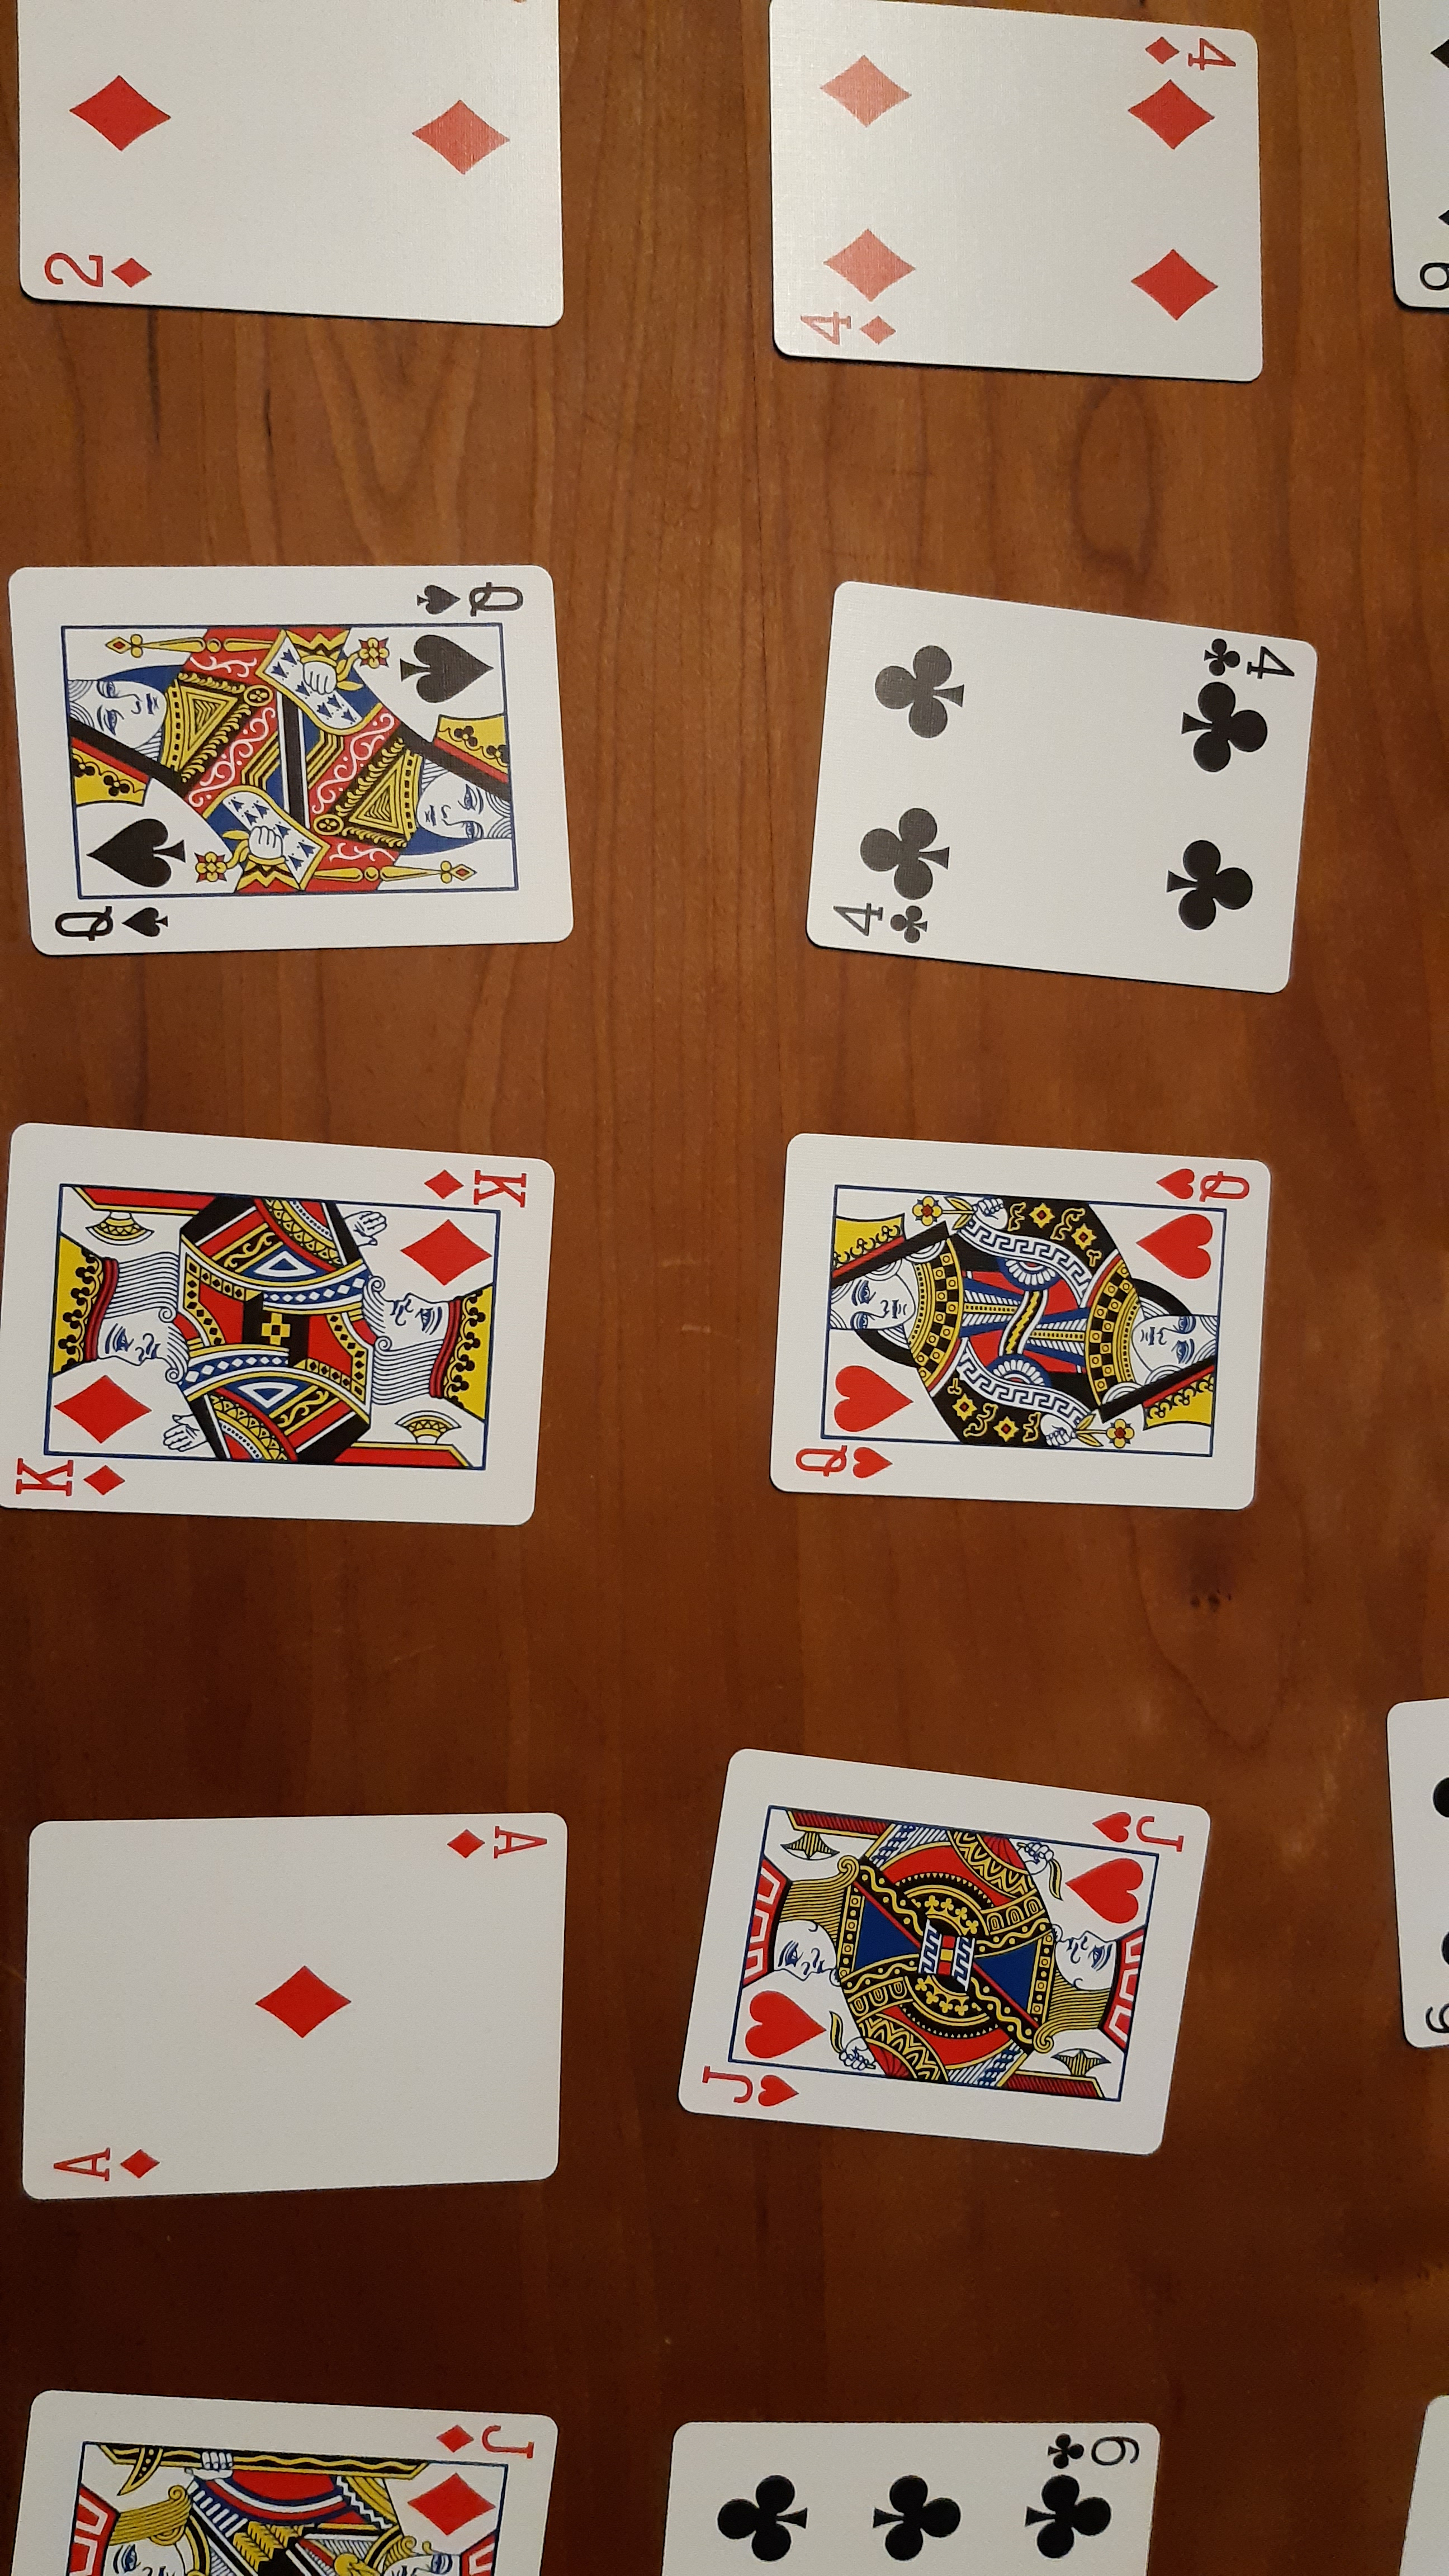Black_Club_4: (1191, 626, 1300, 688), (824, 895, 934, 948)
Black_Club_6: (688, 2417, 1146, 2565)
Black_Spade_Queen: (35, 899, 182, 945), (402, 570, 531, 619)
Red_Diamond_2: (28, 241, 163, 295)
Red_Diamond_4: (791, 299, 901, 359), (1127, 23, 1244, 76)
Red_Diamond_Ace: (32, 2130, 168, 2196), (435, 1813, 552, 1874)
Red_Diamond_Jack: (432, 2417, 545, 2466)
Red_Diamond_King: (2, 1444, 129, 1507), (418, 1159, 541, 1219)
Red_Heart_Jack: (1085, 1798, 1200, 1858), (688, 2059, 809, 2116)
Red_Heart_Queen: (784, 1438, 904, 1488), (1150, 1159, 1258, 1208)
